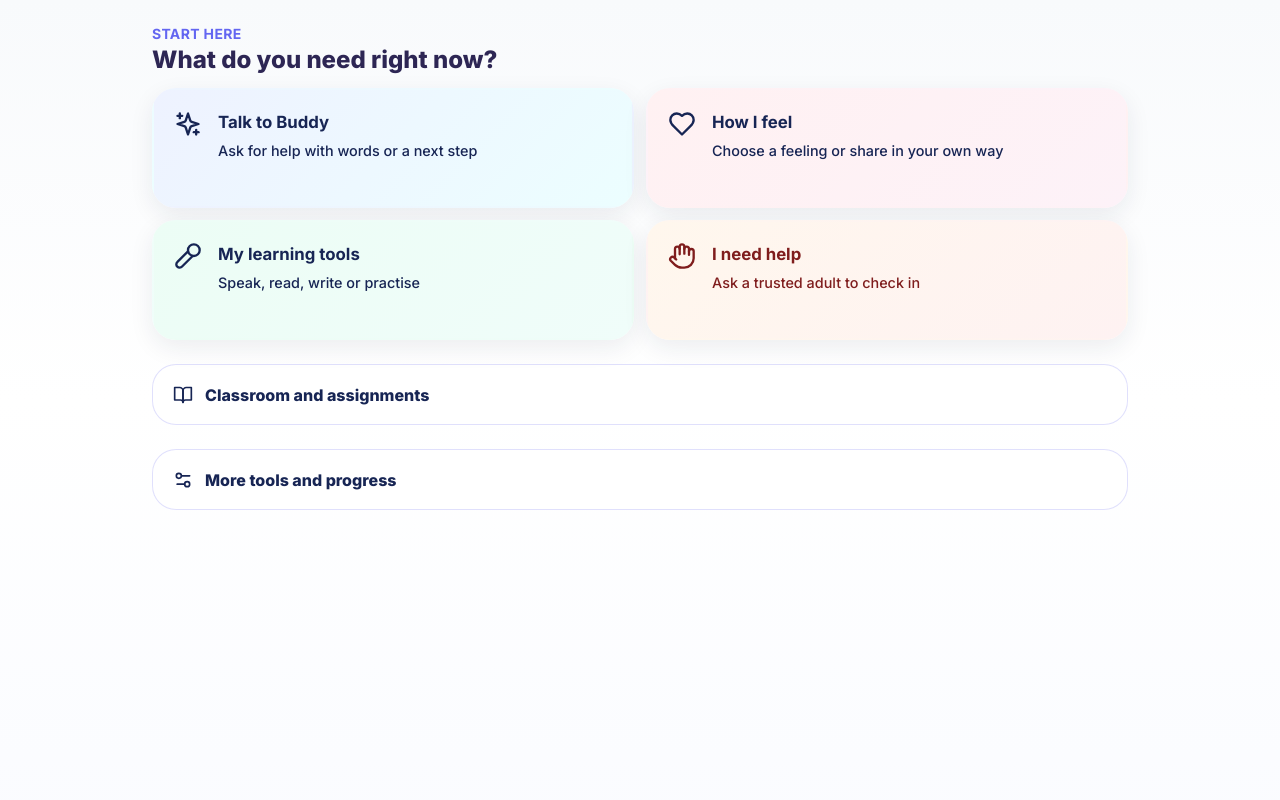
Test: records the real Story Steps dashboard flow with measured time and minimal metadata
The image size is (1280, 800).
Click the heading "More tools and progress": (285, 480) [173,470,396,490]
(page scrolled)
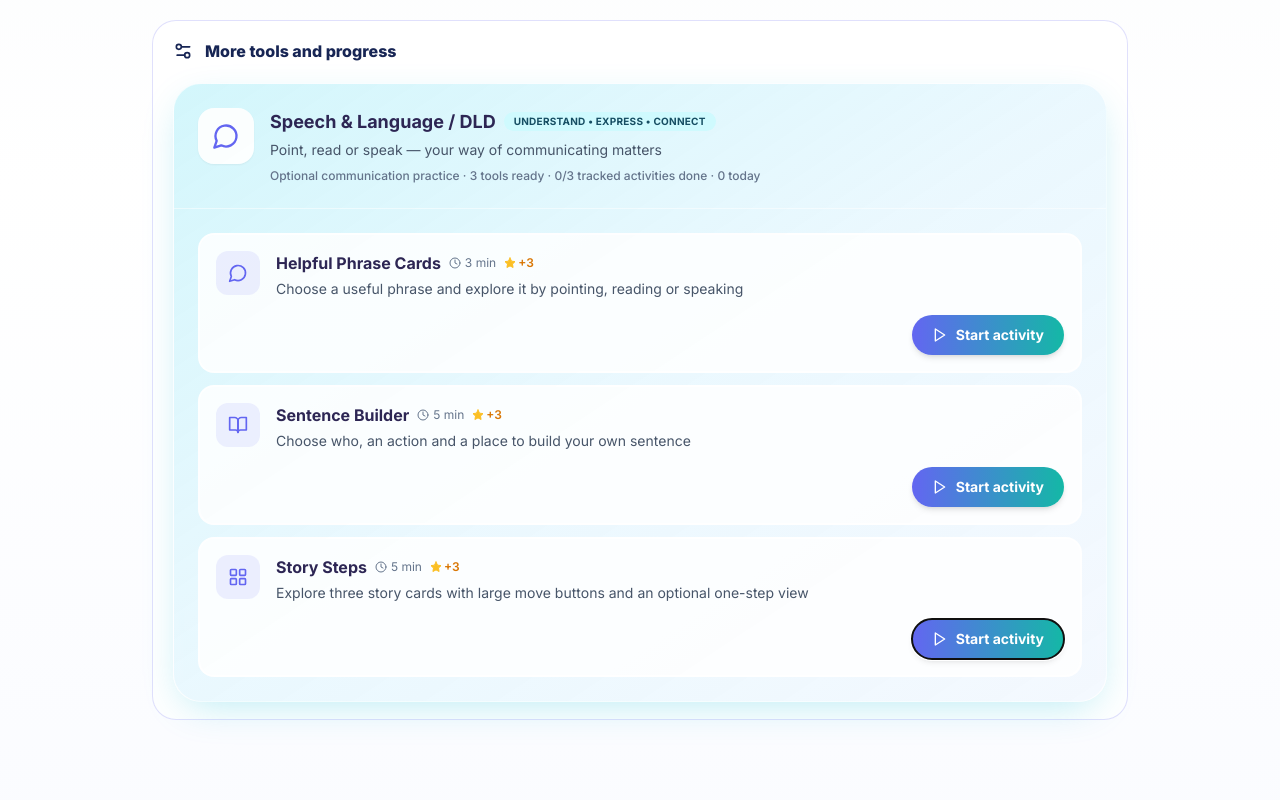
Click the 3rd button "Start activity": (988, 639) [912,619,1064,659]
(page scrolled)
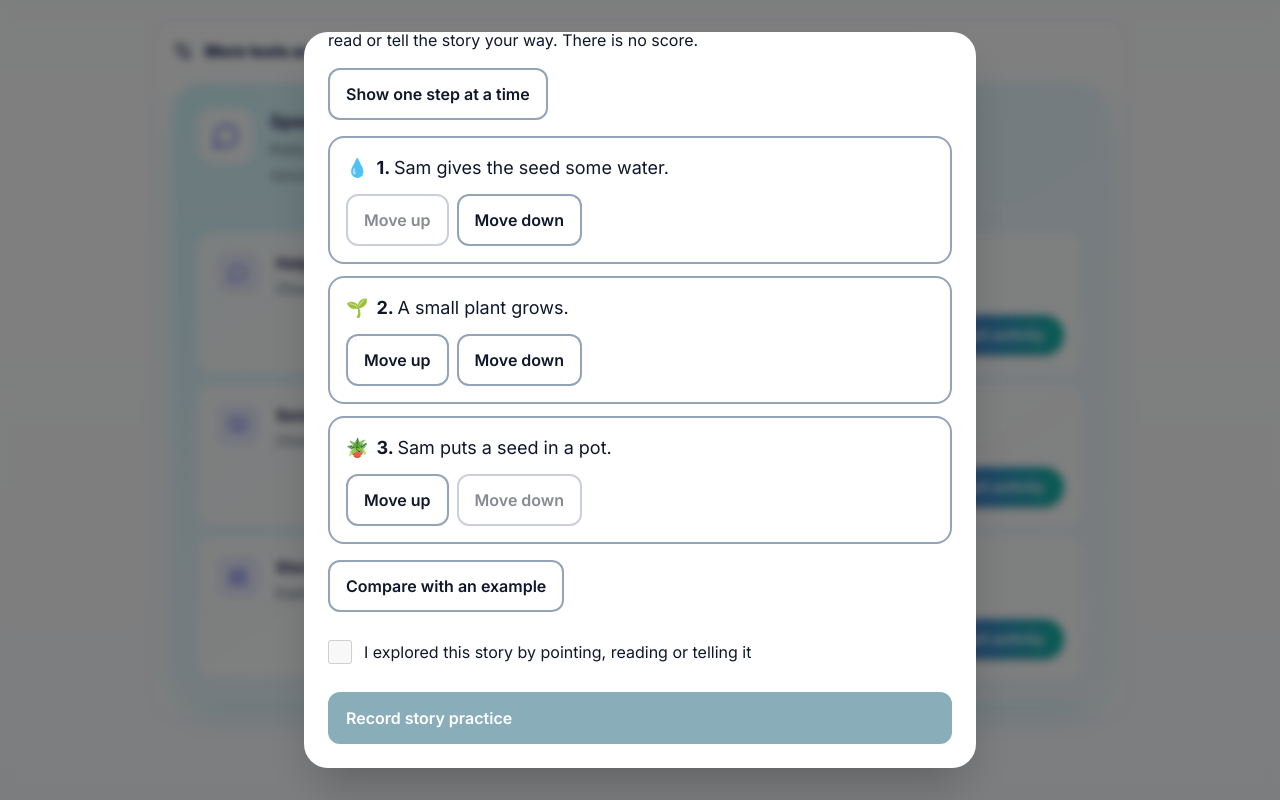
Now the dialog is shown, box [304,32,976,768]
Click the button "Compare with an example": (446, 586) [328,560,564,612]
(page scrolled)
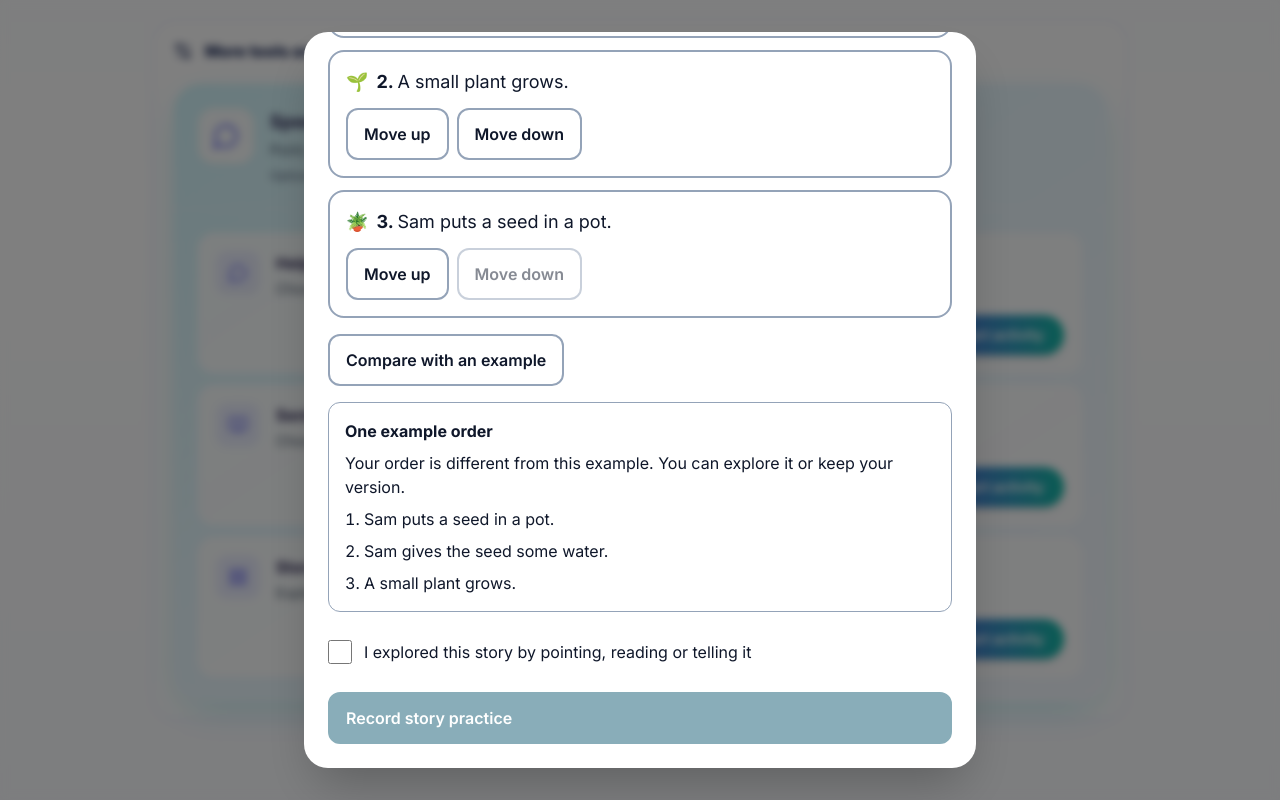
Click the checkbox: (340, 652) [328,640,352,664]
Wait 12000 ms
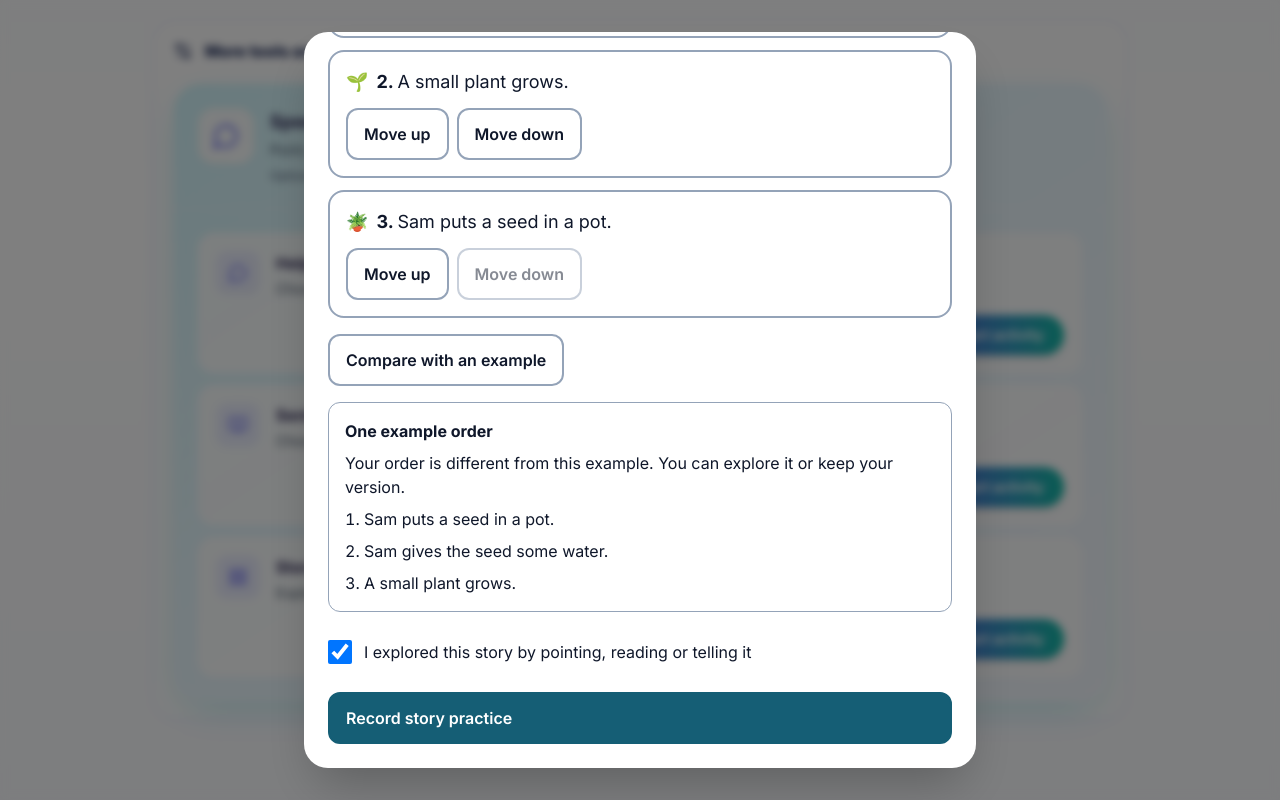
Click the button "Record story practice": (429, 718) [328,692,952,744]
(page scrolled)
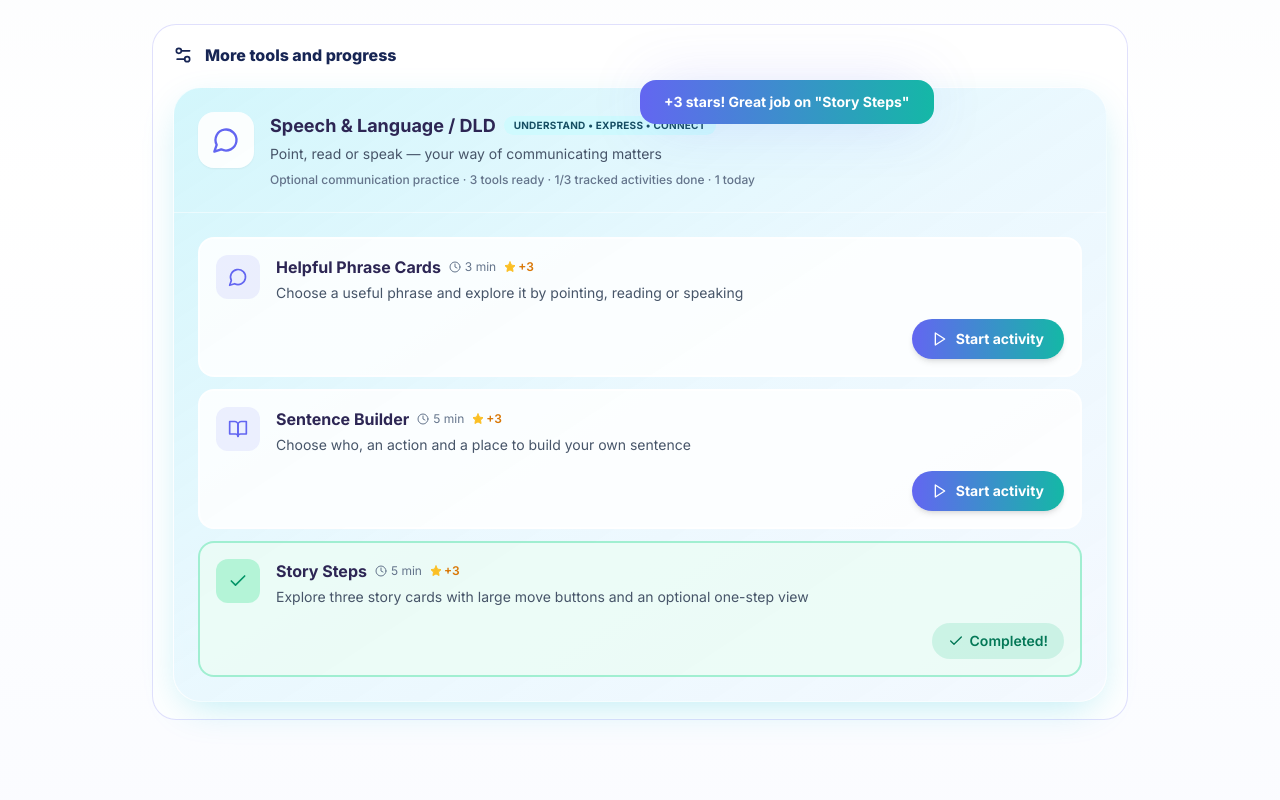
Now the dialog is gone
